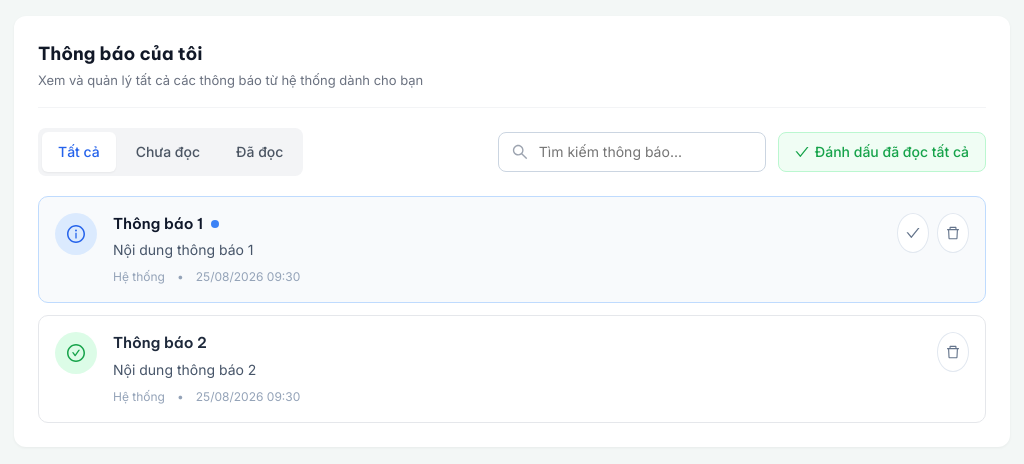
NotificationsStaffScreen - xoá thông báo › xoá thông báo khỏi danh sách
The width and height of the screenshot is (1024, 464).
Expected: the heading "Thông báo 1" is shown, [113,212,203,235]
What coordinates should you click on to do the following:
click the button titled "Xóa thông báo" in the row of "Nội dung thông báo 1"
I would click on:
 (953, 232)
Its box is [937,212,969,252].
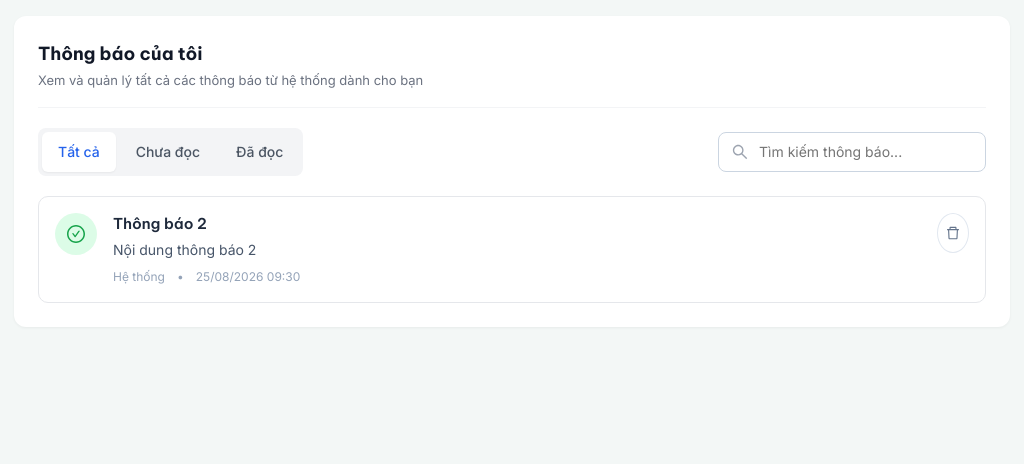
Result: the heading "Thông báo 1" is gone
